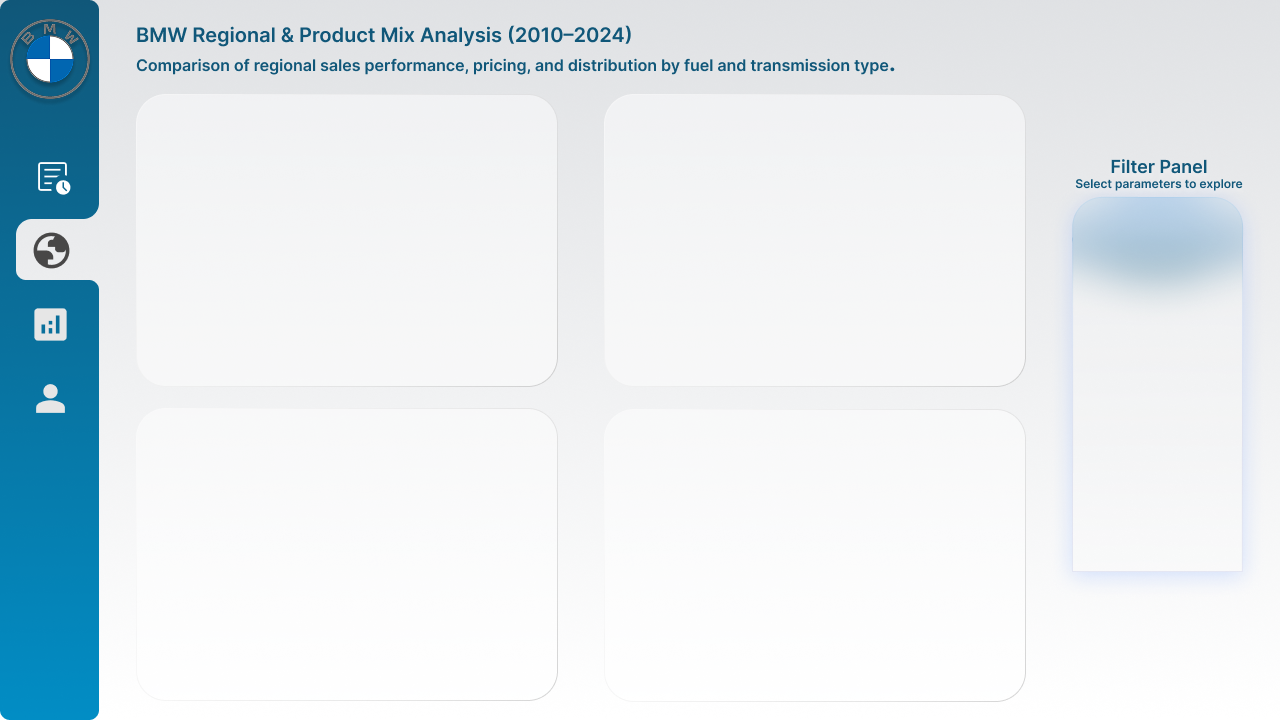

The page's visual inventory and layout, read from the dashboard file:
{"tool":"powerbi","page":{"name":"Página 2","canvas":[1280,720],"ordinal":1},"visuals":[{"type":"columnChart","title":"Total Sales by Region","fields":{"Category":["bmw_sales_final.Region"],"Y":["bmw_sales_final.Total Sales Volume"]},"box":[136.5,95.2,406.3,288.9],"z":0},{"type":"clusteredColumnChart","title":"Average Price by Region and Fuel Type","fields":{"Category":["bmw_sales_final.Region"],"Y":["bmw_sales_final.Weighted Avg Price"],"Series":["bmw_sales_final.Fuel_Type"]},"box":[604.8,95.2,412.7,288.9],"z":1000},{"type":"clusteredBarChart","title":"Sales Volume by Transmission Type","fields":{"Category":["bmw_sales_final.Transmission"],"Y":["bmw_sales_final.Total Sales Volume"],"Series":["bmw_sales_final.Region"]},"box":[136.5,407.9,406.3,284.1],"z":2000},{"type":"slicer","fields":{"Values":["bmw_sales_final.Year"]},"box":[1069.8,198.4,169.8,82.5],"z":3000},{"type":"slicer","fields":{"Values":["bmw_sales_final.Fuel_Type"]},"box":[1069.8,265.1,169.8,84.1],"z":4000},{"type":"slicer","fields":{"Values":["bmw_sales_final.Region"]},"box":[1069.8,336.5,169.8,71.4],"z":5000},{"type":"slicer","fields":{"Values":["bmw_sales_final.Mileage_Range"]},"box":[1069.8,407.9,169.8,74.6],"z":6000},{"type":"slicer","fields":{"Values":["bmw_sales_final.Transmission"]},"box":[1069.8,482.5,169.8,87.3],"z":7000},{"type":"donutChart","fields":{"Category":["bmw_sales_final.Region"],"Y":["bmw_sales_final.Total Sales Volume"]},"box":[605,408,413,284],"z":8000},{"type":"actionButton","box":[0,138.8,99.8,70.8],"z":9000},{"type":"actionButton","box":[0,277.6,99.8,70.8],"z":10000},{"type":"actionButton","box":[0,360,99.8,70.8],"z":11000}]}

Visuals, with their boxes on the page's 1280x720 design canvas (x1, y1, x2, y2). These are canvas units, not pixel positions in the 1280x720 screenshot, which may show the page scaled, cropped or inside an application window:
"Total Sales by Region" columnChart: (136, 95, 543, 384)
"Average Price by Region and Fuel Type" clusteredColumnChart: (605, 95, 1018, 384)
"Sales Volume by Transmission Type" clusteredBarChart: (136, 408, 543, 692)
slicer - bmw_sales_final.Year: (1070, 198, 1240, 281)
slicer - bmw_sales_final.Fuel_Type: (1070, 265, 1240, 349)
slicer - bmw_sales_final.Region: (1070, 336, 1240, 408)
slicer - bmw_sales_final.Mileage_Range: (1070, 408, 1240, 482)
slicer - bmw_sales_final.Transmission: (1070, 482, 1240, 570)
donutChart - bmw_sales_final.Region x bmw_sales_final.Total Sales Volume: (605, 408, 1018, 692)
actionButton: (0, 139, 100, 210)
actionButton: (0, 278, 100, 348)
actionButton: (0, 360, 100, 431)
